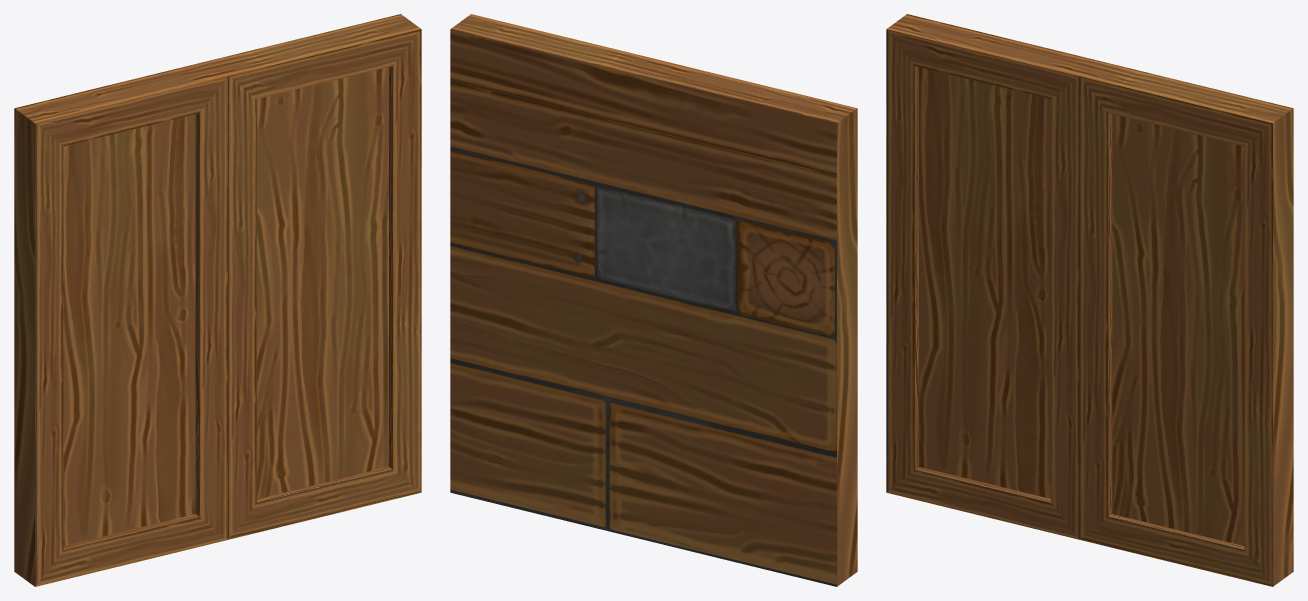
3 renders of one model, left to right at view 1: azimuth 30°, elevation 25°; view 2: azimuth 150°, elevation 25°; view 3: azimuth 330°, elevation 25°, orthographic.
Visible parts, largest first — view 1: Cube.407; view 2: Cube.407; view 3: Cube.407.
Boxes of the visible parts, x1,y1,x2,y2 form: Cube.407: (14, 14, 421, 586); Cube.407: (450, 14, 857, 586); Cube.407: (886, 14, 1293, 586).
Size of the model in its own units: 250 by 287 by 23.2.
Materials: 1 (1 with a texture image).
